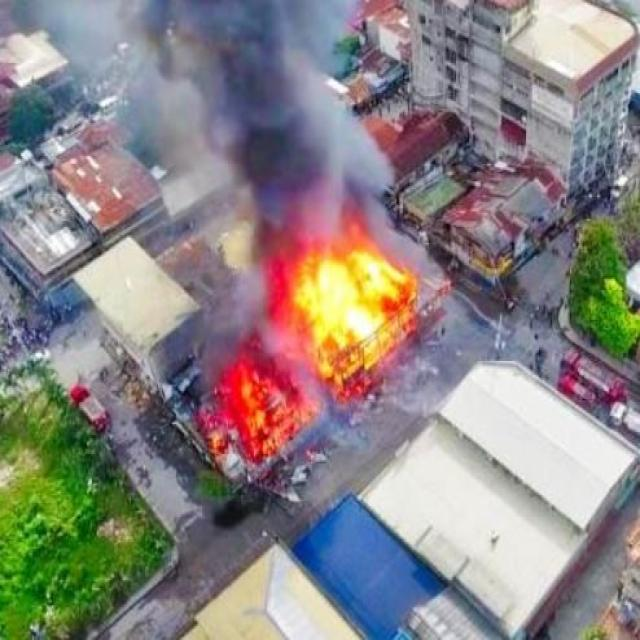Fire: (300, 246, 420, 369), (228, 367, 315, 449)
Smoke: (162, 0, 440, 238)
